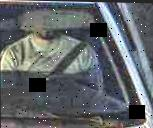seatbelt: (52, 32, 92, 70)
